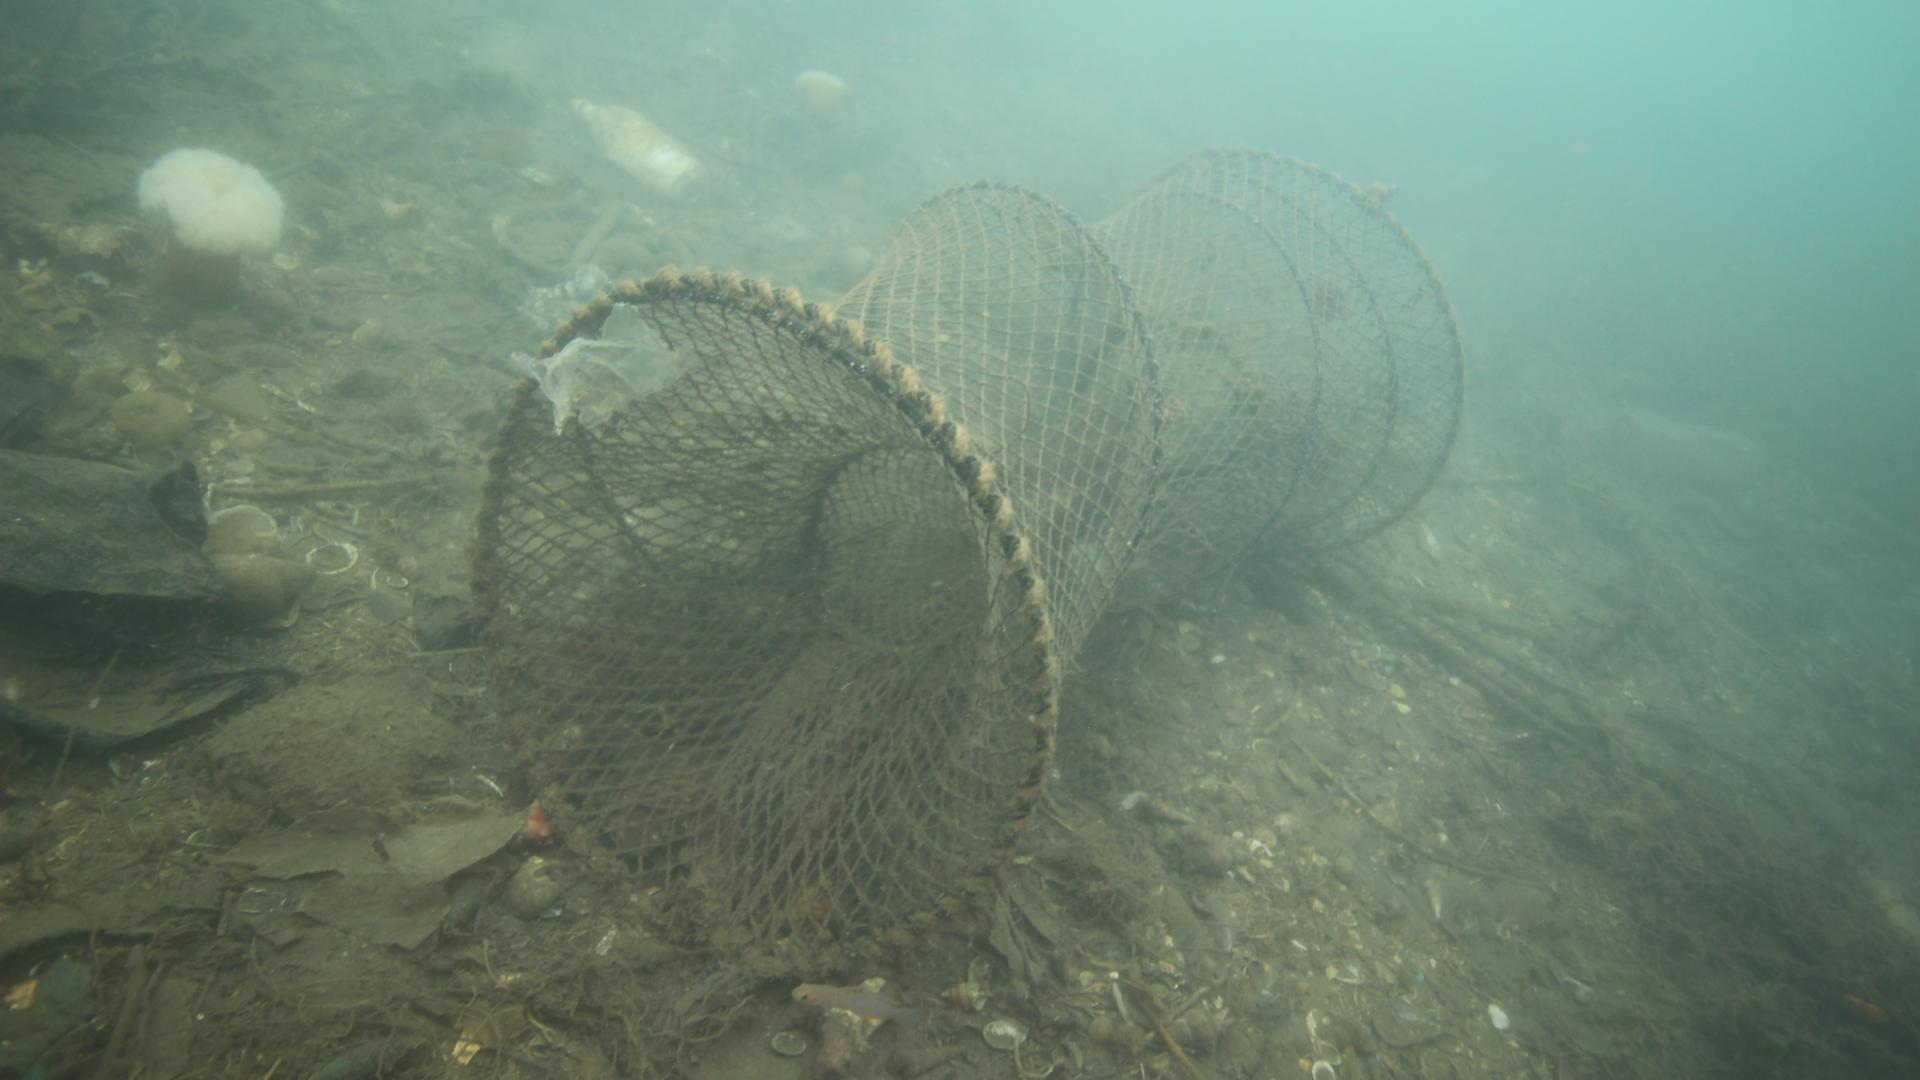spring fish trap: (475, 141, 1466, 980)
